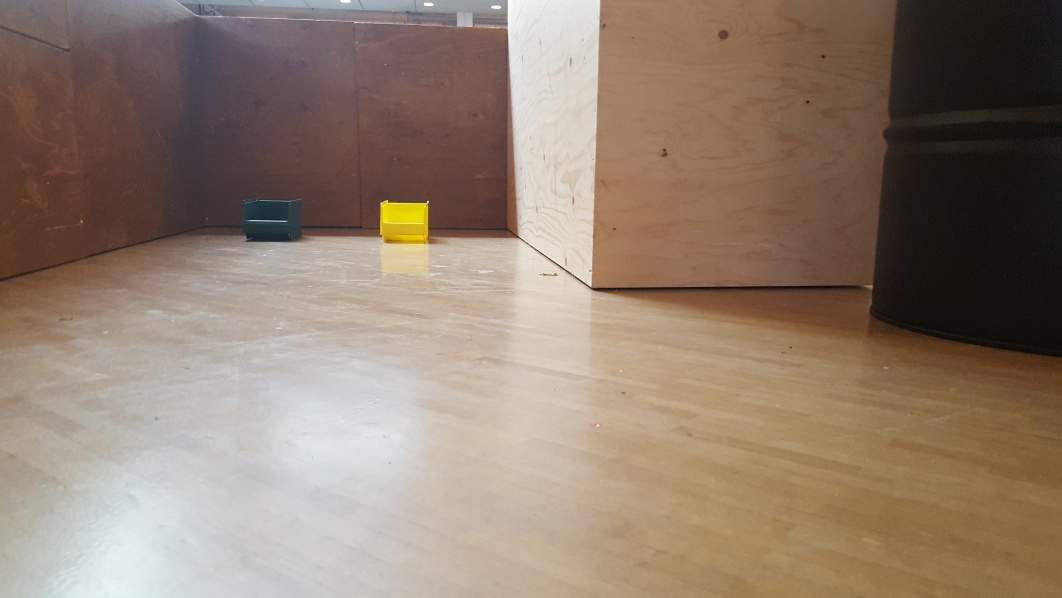tray: (244, 196, 304, 243), (377, 199, 432, 244)
